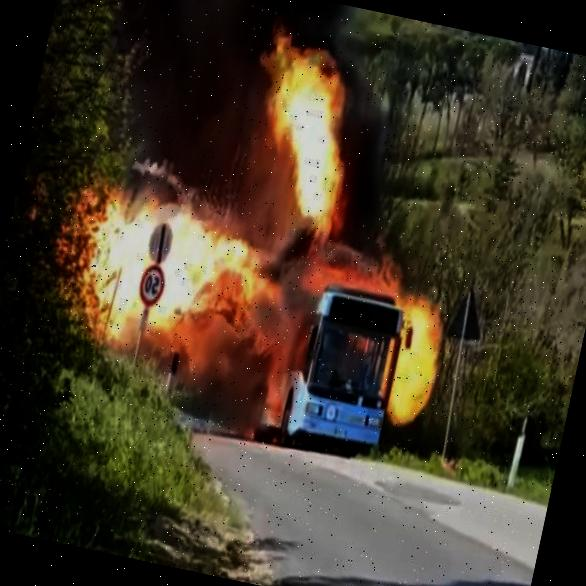smoke: (86, 0, 281, 195), (312, 211, 418, 308)
